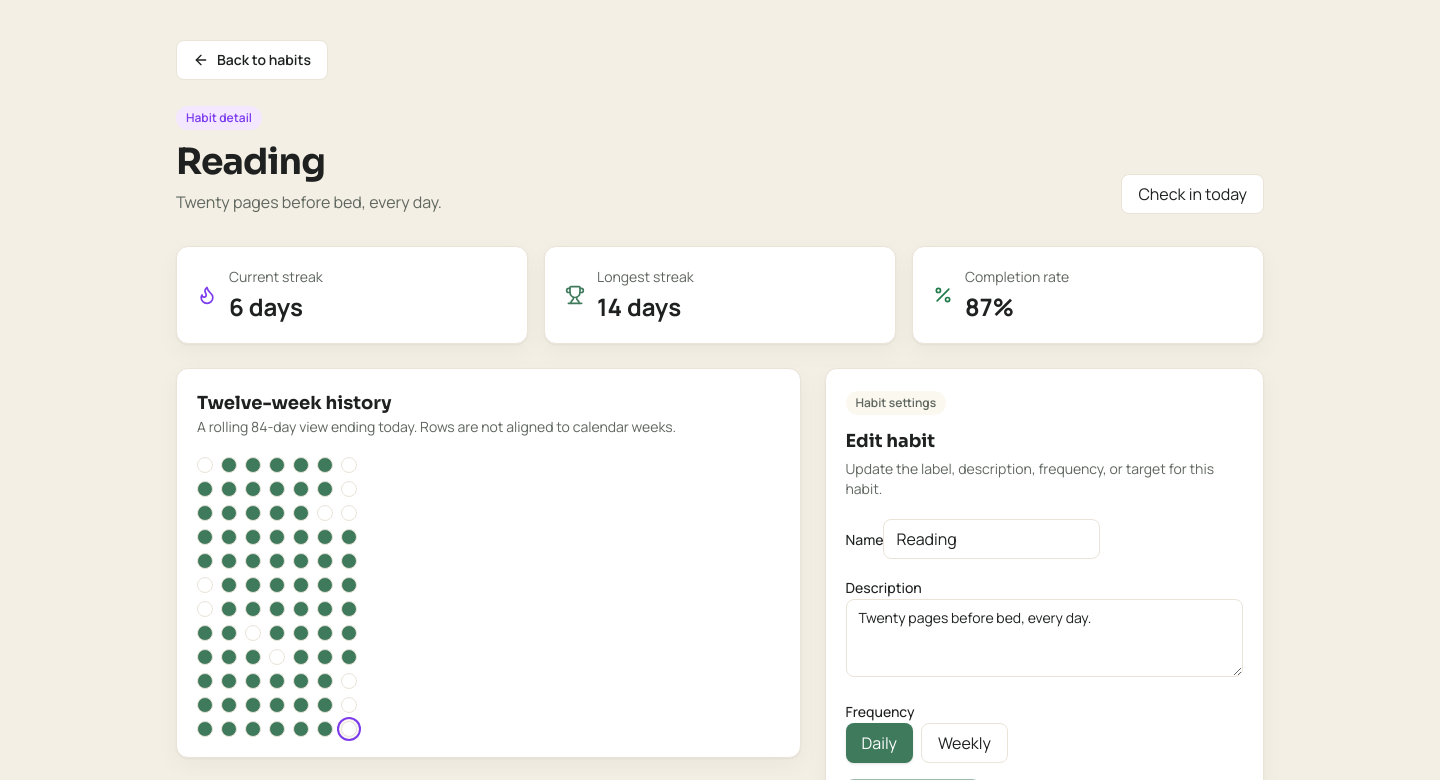
HabitDetailPage — editing › enables saving once the name differs
Type " nightly" into the field labelled "Name".
click(992, 539); type(" nightly")  # box top-left (883, 519), bottom-right (1100, 559)
(page scrolled)
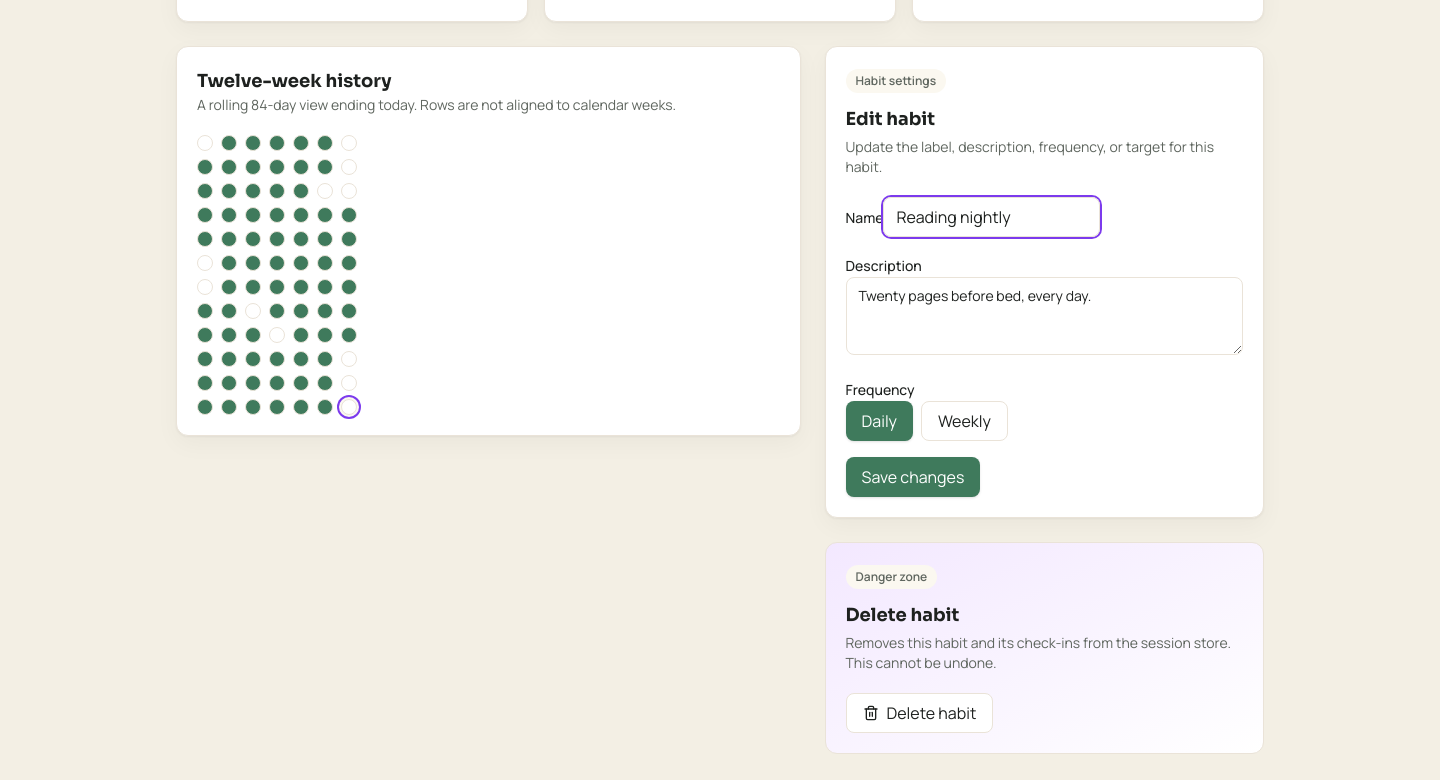
Now the button "Save changes" is enabled, box top-left (846, 457), bottom-right (980, 497)
